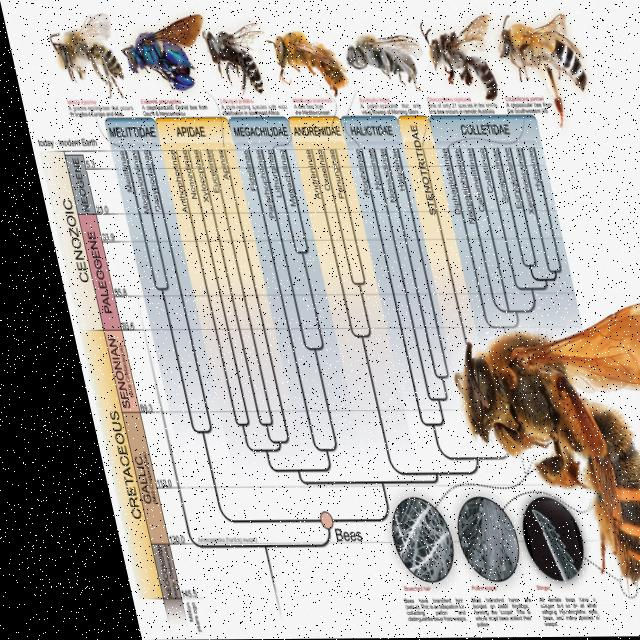Meliponula: (412, 276, 640, 606)
